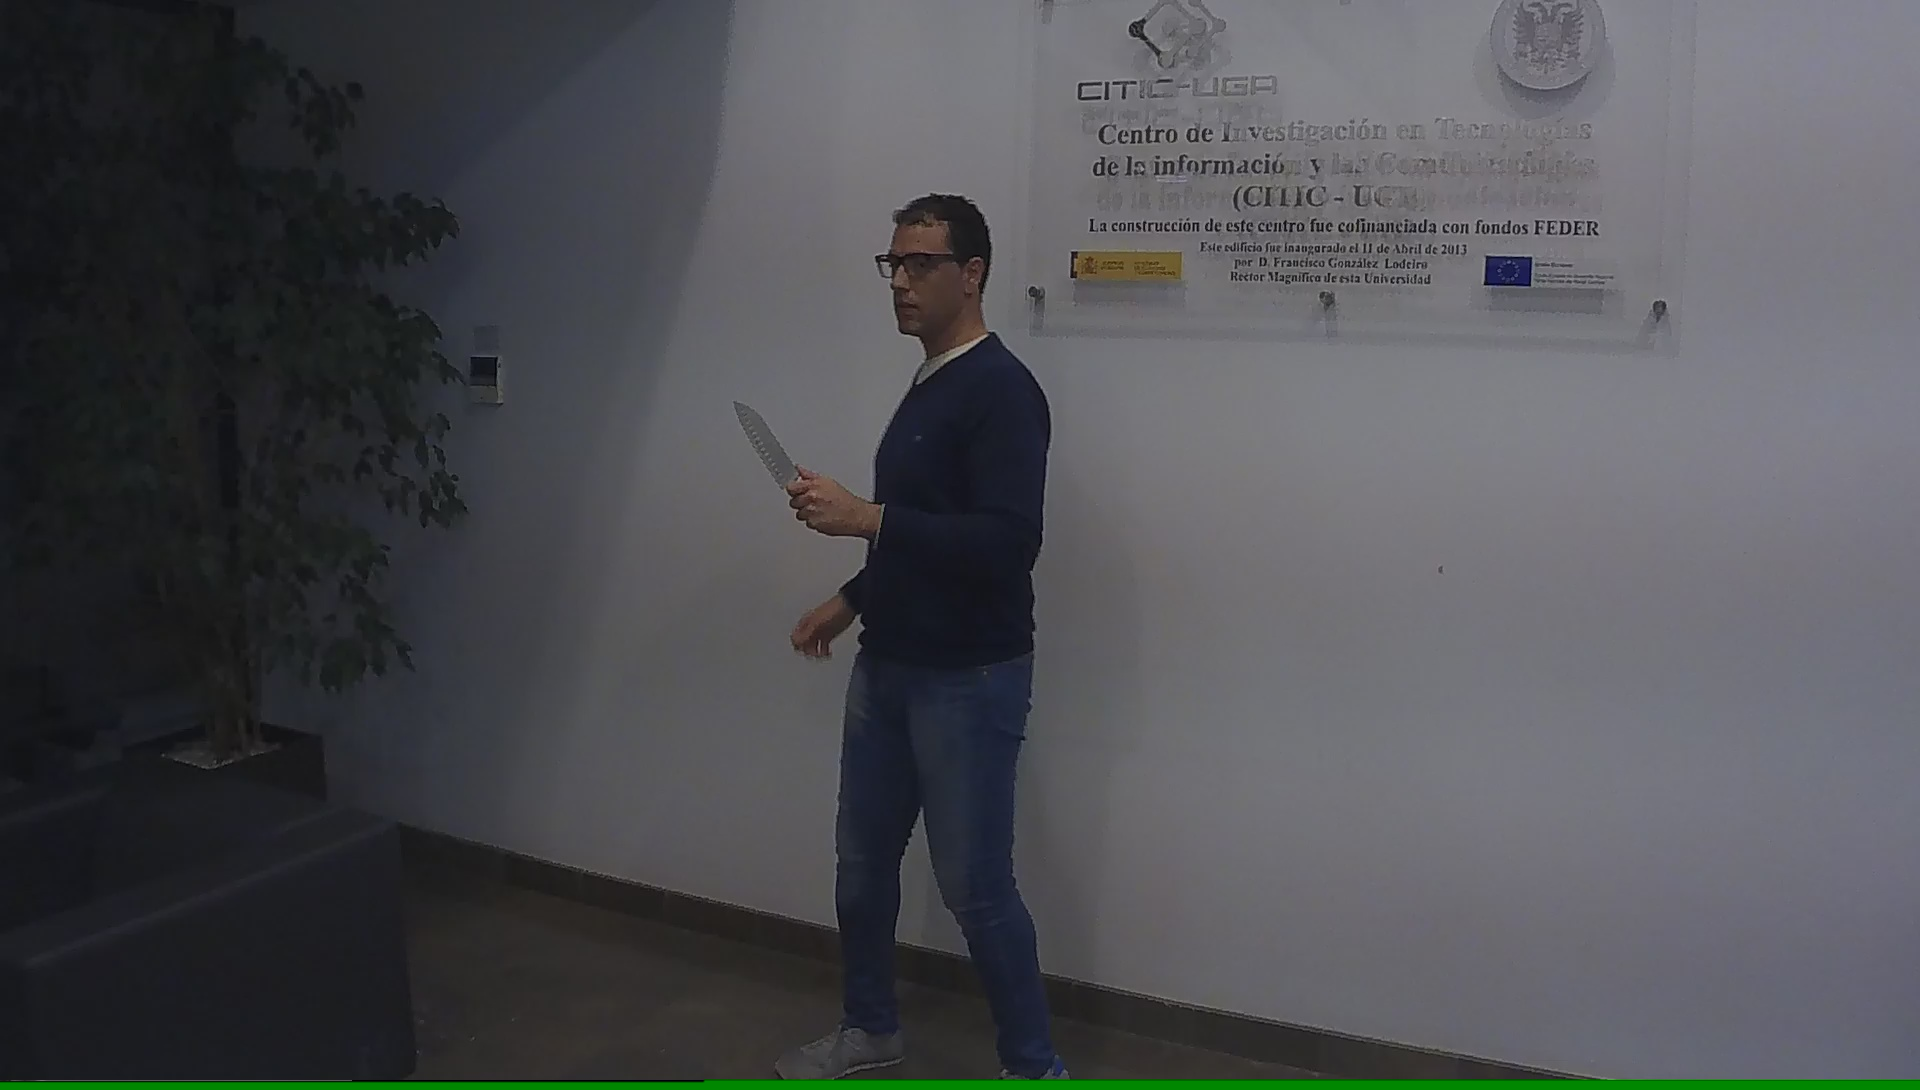knife: (728, 393, 829, 532)
